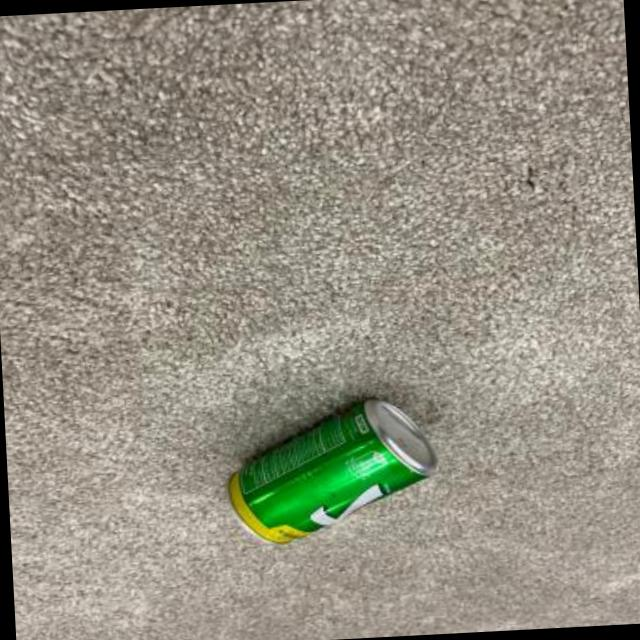metal: (226, 403, 434, 547)
